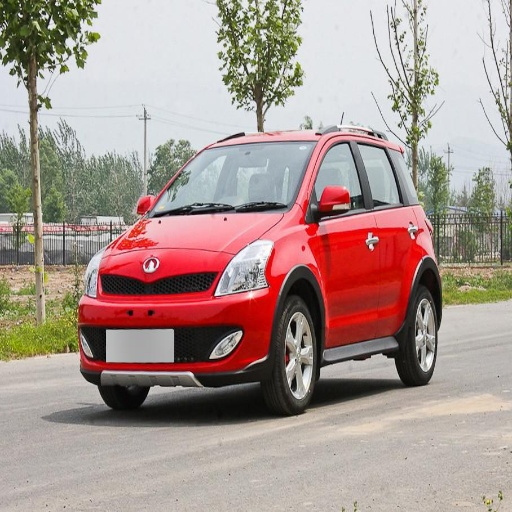back_left_door: (358, 137, 419, 331)
front_bumper: (144, 249, 280, 385)
front_glass: (147, 144, 313, 216)
front_left_door: (307, 136, 379, 342)
trunk: (84, 294, 151, 326)
